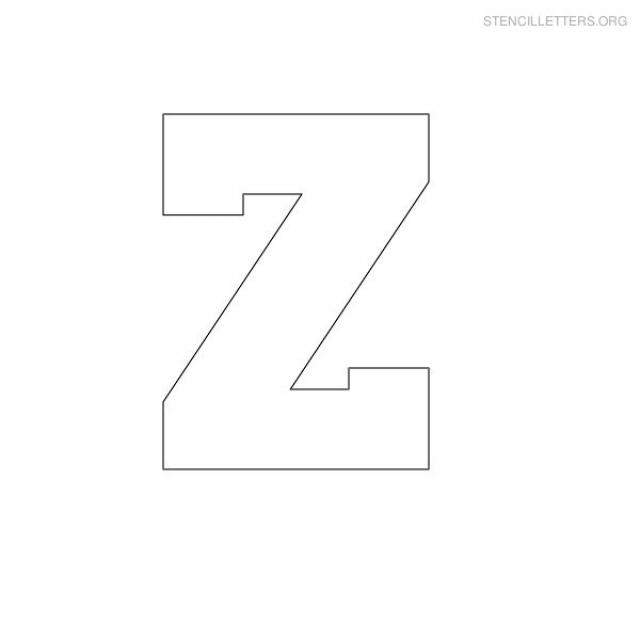Z: (99, 69, 468, 507)
